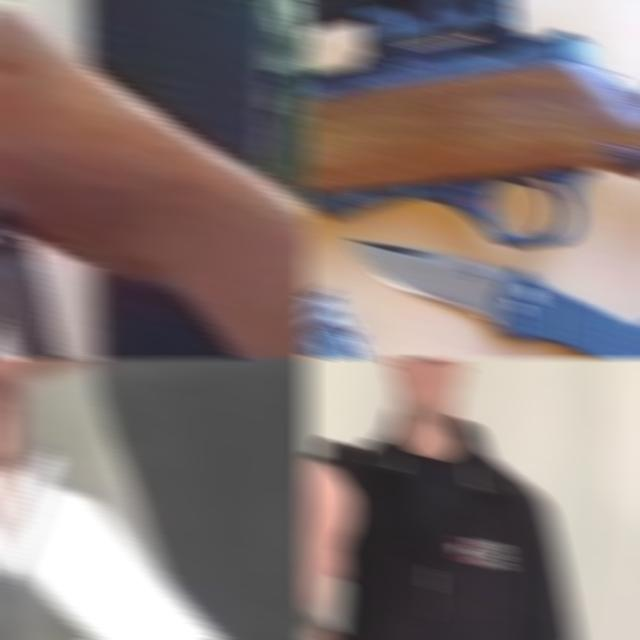Knife: (0, 444, 312, 640), (350, 240, 640, 359)
Knife_Handle: (0, 357, 312, 640), (0, 0, 103, 359), (302, 457, 359, 640)
